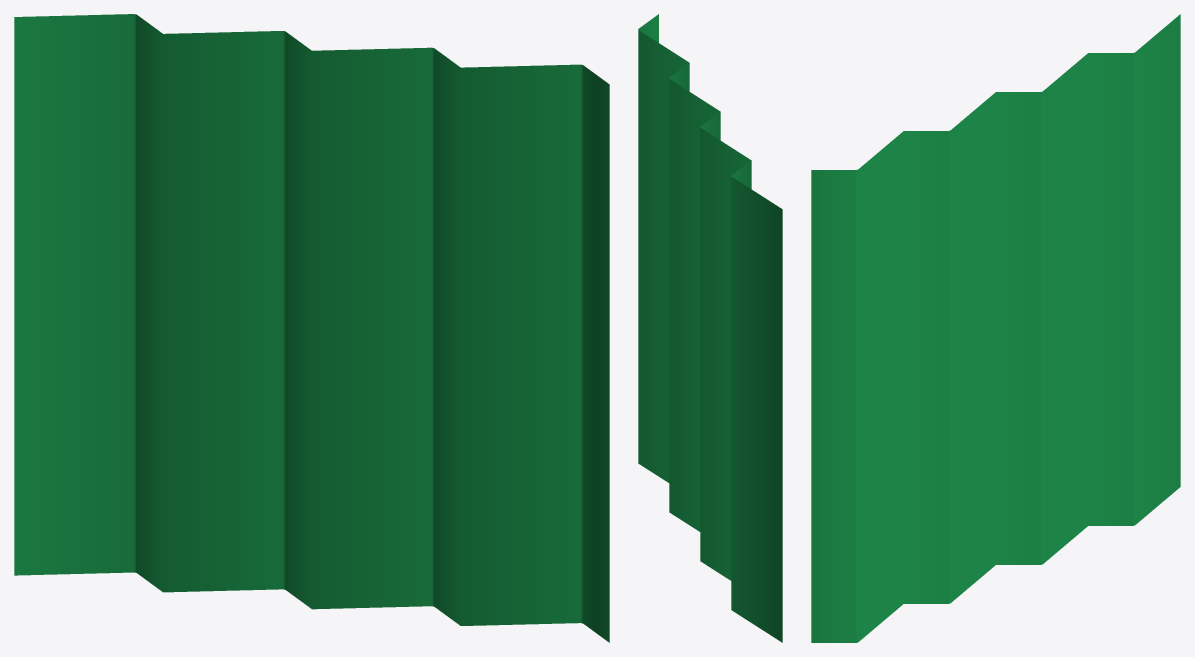
File: kit_40x40m_terrain_01.007.obj
The picture shows the model from 3 angles, left to right: view 1: azimuth 30°, elevation 25°; view 2: azimuth 150°, elevation 25°; view 3: azimuth 270°, elevation 25°; orthographic projection. The views are drawn at different scales.
Parts seen in each view (by area): view 1: kit_40x40m_terrain_01.007; view 2: kit_40x40m_terrain_01.007; view 3: kit_40x40m_terrain_01.007.
Part boxes in pixels (x1,y1,x2,y2): kit_40x40m_terrain_01.007: (14, 14, 609, 642); kit_40x40m_terrain_01.007: (638, 14, 782, 642); kit_40x40m_terrain_01.007: (811, 14, 1180, 642).
Size of the model in its own units: 28.28 by 40 by 28.28.
